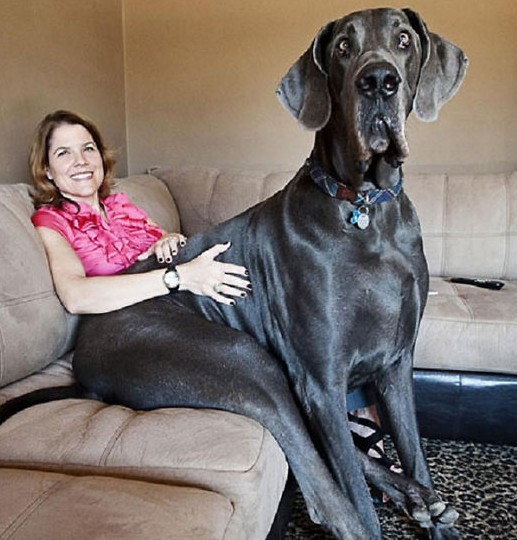Dog: (79, 7, 487, 538)
Person: (23, 88, 253, 334)
